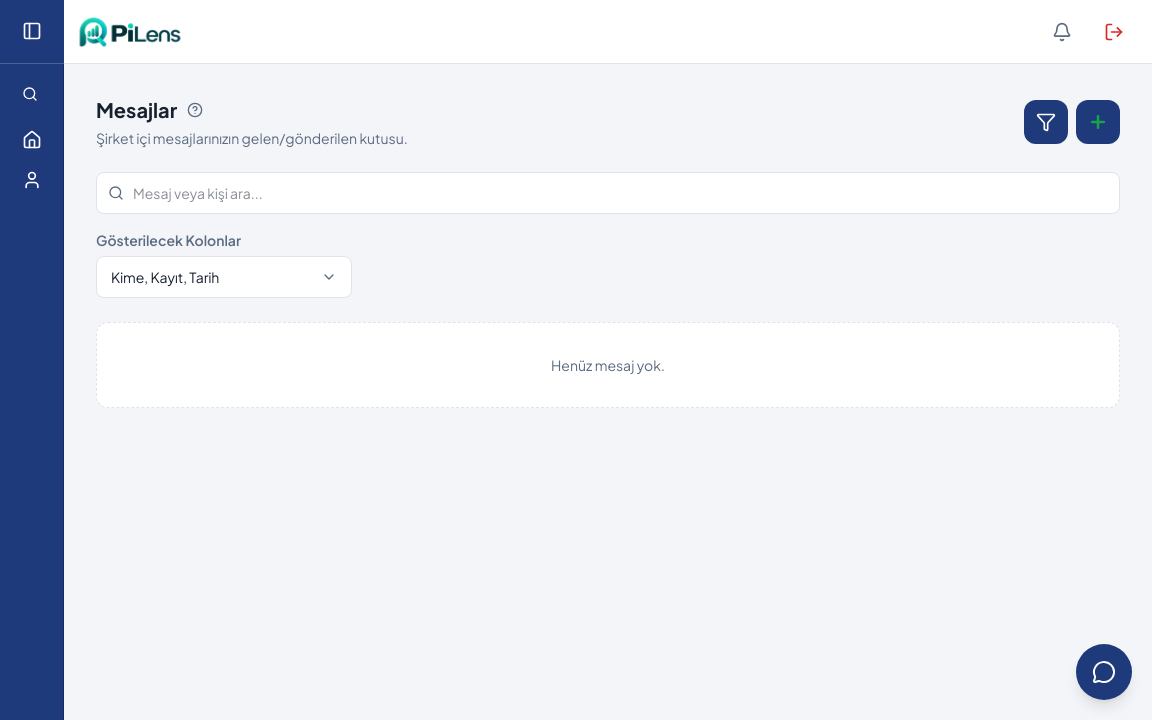
Test: MessagesListPage › yeni mesaj butonu formu acar
Click the button named "Yeni Mesaj" at (1098, 122), box [1076,100,1120,144]
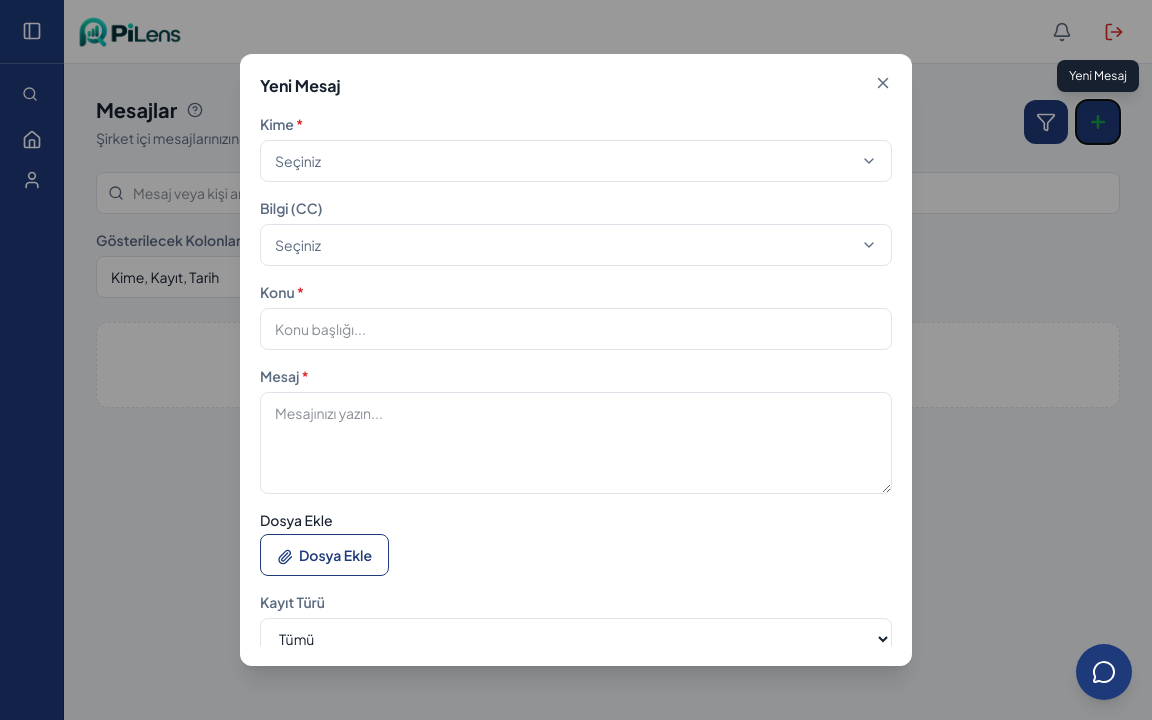
Now the dialog "Yeni Mesaj" is shown, box [240,54,912,666]
